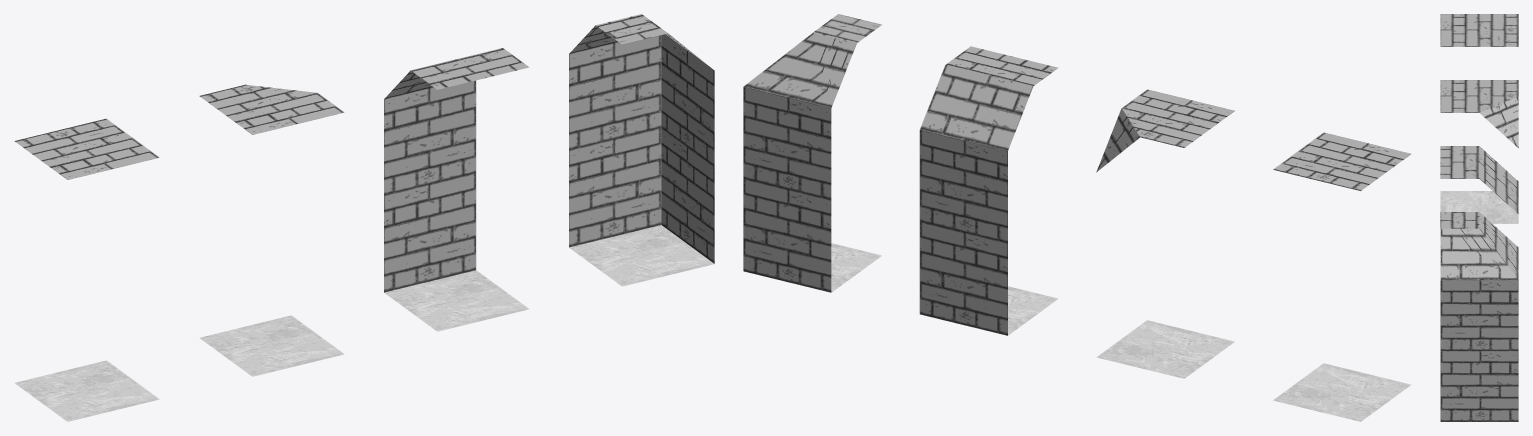
File: tileset.glb
The picture shows the model from 3 angles, left to right: view 1: azimuth 30°, elevation 25°; view 2: azimuth 150°, elevation 25°; view 3: azimuth 270°, elevation 25°; orthographic projection. The views are drawn at different scales.
Parts seen in each view (by area): view 1: wallCorner-col, wall-col, floor-col, wallCorner2-col; view 2: wall-col, wallCorner-col, wallCorner2-col, floor-col; view 3: wallCorner-col, floor-col, wallCorner2-col, wall-col.
Boxes of the visible parts, x1,y1,x2,y2 form: wallCorner-col: (569, 14, 714, 286); wall-col: (384, 48, 529, 331); floor-col: (14, 118, 159, 421); wallCorner2-col: (199, 84, 344, 376); wall-col: (919, 46, 1058, 335); wallCorner-col: (743, 14, 881, 292); wallCorner2-col: (1096, 89, 1234, 378); floor-col: (1273, 132, 1411, 421); wallCorner-col: (1440, 212, 1518, 421); floor-col: (1440, 14, 1518, 223); wallCorner2-col: (1440, 80, 1518, 147); wall-col: (1440, 146, 1518, 213).
Size of the model in its own units: 7 by 2.5 by 1.
Materials: 1 (1 with a texture image).
